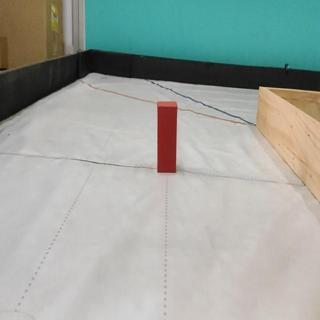redbox: (155, 101, 178, 173)
